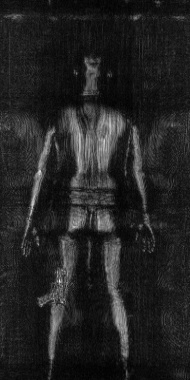gun: (41, 265, 72, 308)
